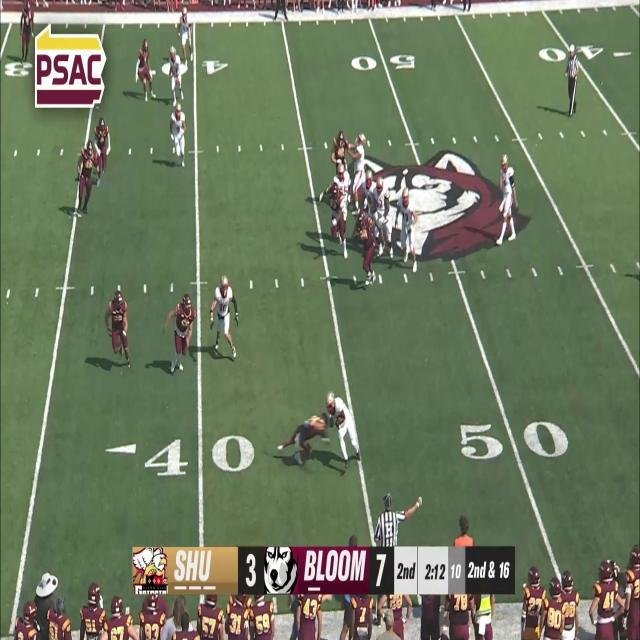football: (335, 416, 344, 428)
